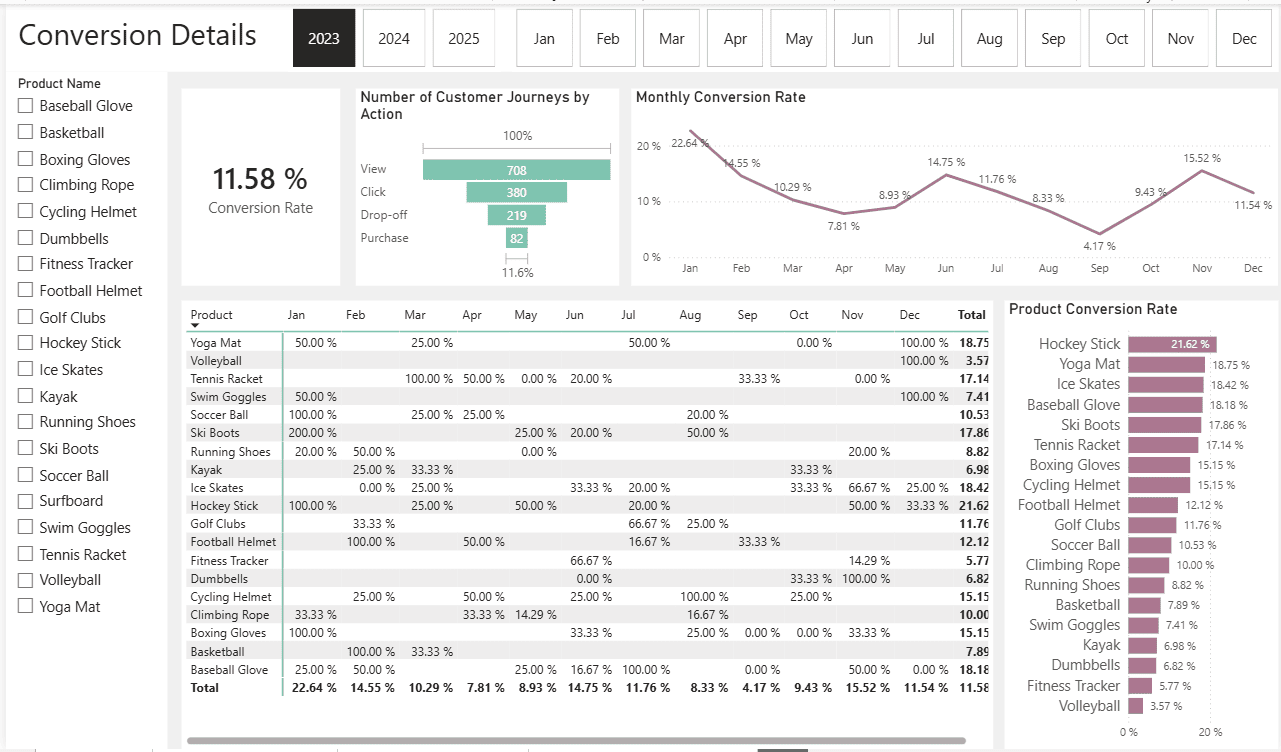

This screenshot's page, from the dashboard's own definition file:
{"tool":"powerbi","page":{"name":"Conversion Details","canvas":[1400,820],"ordinal":1},"visuals":[{"type":"textbox","box":[0,0,1400.3,74.4],"z":0},{"type":"slicer","fields":{"Values":["dim_product.ProductName"]},"box":[0,74.4,177.4,745.2],"z":1000},{"type":"advancedSlicerVisual","fields":{"Values":["Date.Year"]},"box":[310.4,0,234.6,74.4],"z":2000},{"type":"advancedSlicerVisual","fields":{"Values":["Date.MonthNameShort"]},"box":[556.4,0,843.9,74.4],"z":3000},{"type":"cardVisual","fields":{"Data":["_mesures.Conversion Rate"]},"box":[192.9,92.9,174.3,217.1],"z":4000},{"type":"lineChart","title":"Monthly Conversion Rate ","fields":{"Y":["_mesures.Conversion Rate"],"Category":["Date.MonthNameShort"]},"box":[688.6,92.9,711.4,217.1],"z":5000},{"type":"clusteredBarChart","title":"Product Conversion Rate ","fields":{"Category":["dim_product.ProductName"],"Y":["_mesures.Conversion Rate"]},"box":[1098.6,325.7,301.4,494.3],"z":6000},{"type":"funnel","title":" Number of Customer Journeys by Action","fields":{"Category":["fact_customer_journey.Action"],"Y":["CountNonNull(fact_customer_journey.CustomerID)"]},"box":[384.3,92.9,290,217.1],"z":7000},{"type":"pivotTable","fields":{"Values":["_mesures.Conversion Rate"],"Rows":["dim_product.ProductName"],"Columns":["Date.MonthNameShort"]},"box":[192.9,325.7,892.9,494.3],"z":8000}]}

Visuals, with their boxes in screenshot pixels (x1, y1, x2, y2), scaled from the page's 1400x820 canvas onto the 1281x752 screenshot:
textbox: (0,0,1280,68)
slicer - dim_product.ProductName: (0,68,162,751)
advancedSlicerVisual - Date.Year: (284,0,499,68)
advancedSlicerVisual - Date.MonthNameShort: (509,0,1280,68)
cardVisual - _mesures.Conversion Rate: (177,85,336,284)
"Monthly Conversion Rate " lineChart: (630,85,1280,284)
"Product Conversion Rate " clusteredBarChart: (1005,299,1280,751)
" Number of Customer Journeys by Action" funnel: (352,85,617,284)
pivotTable - _mesures.Conversion Rate x dim_product.ProductName: (177,299,994,751)
